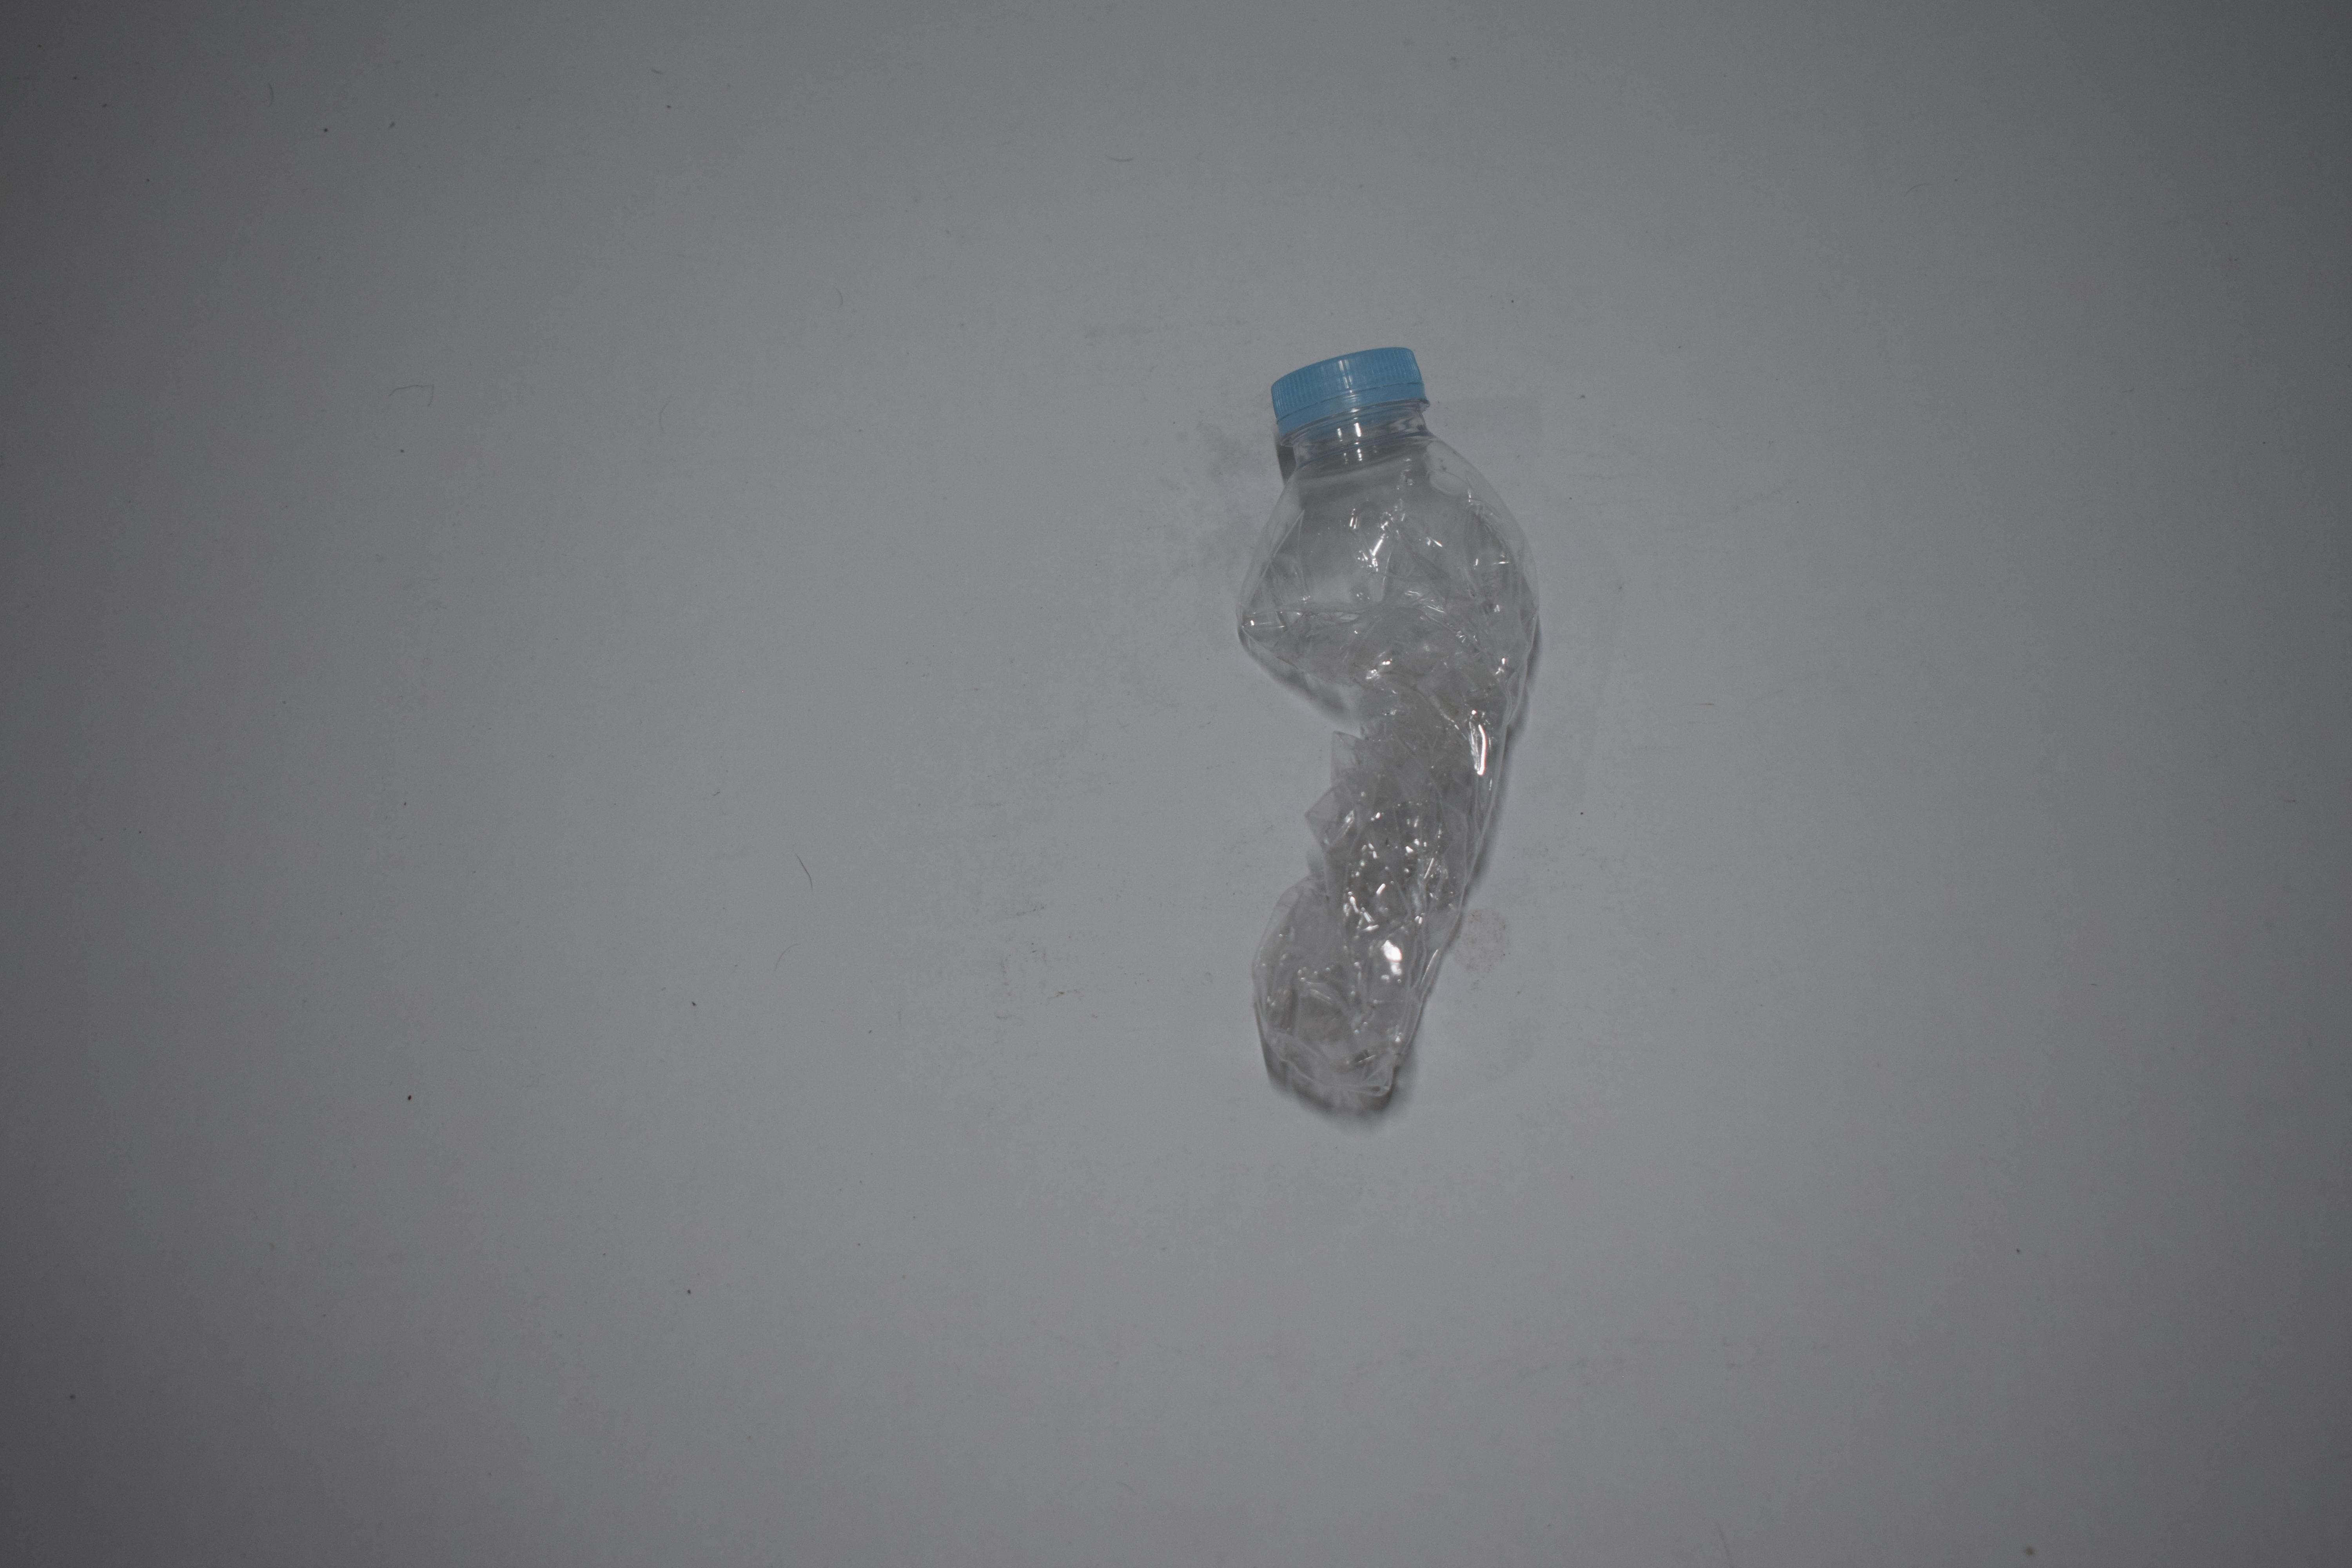bottle: (51, 724, 376, 740)
